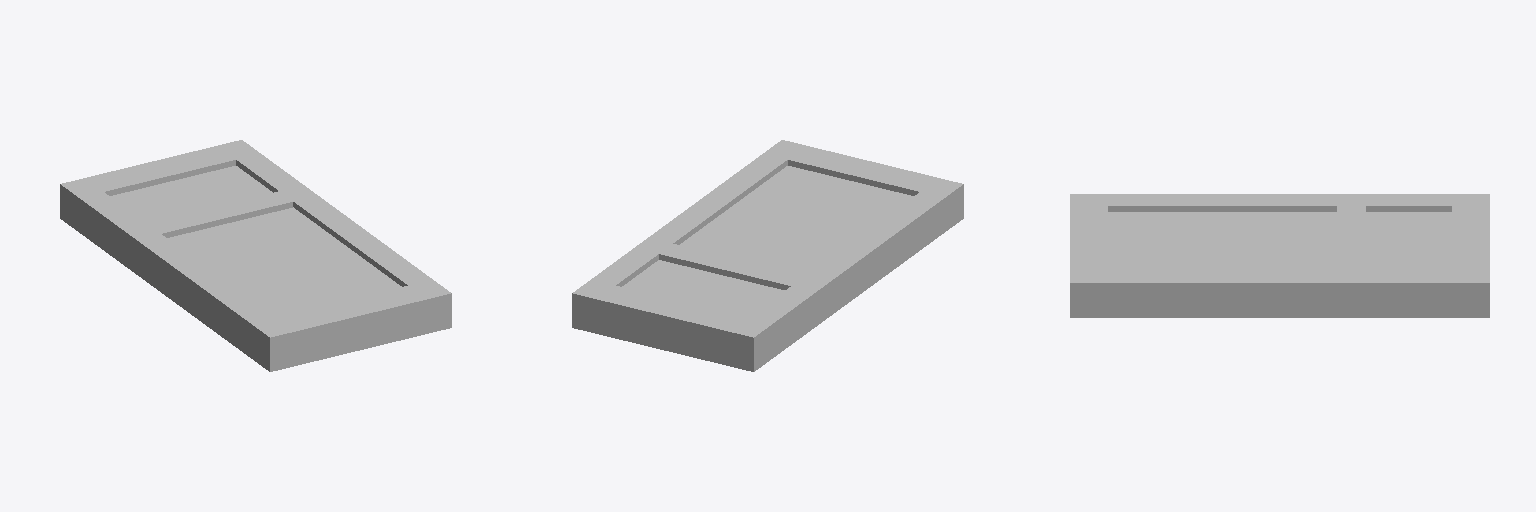
Rendered from porta.obj.
3 renders of one model, left to right at view 1: azimuth 30°, elevation 25°; view 2: azimuth 150°, elevation 25°; view 3: azimuth 270°, elevation 25°, orthographic.
Bounding box in the file's own units: 1.1 × 0.2 × 2.2.